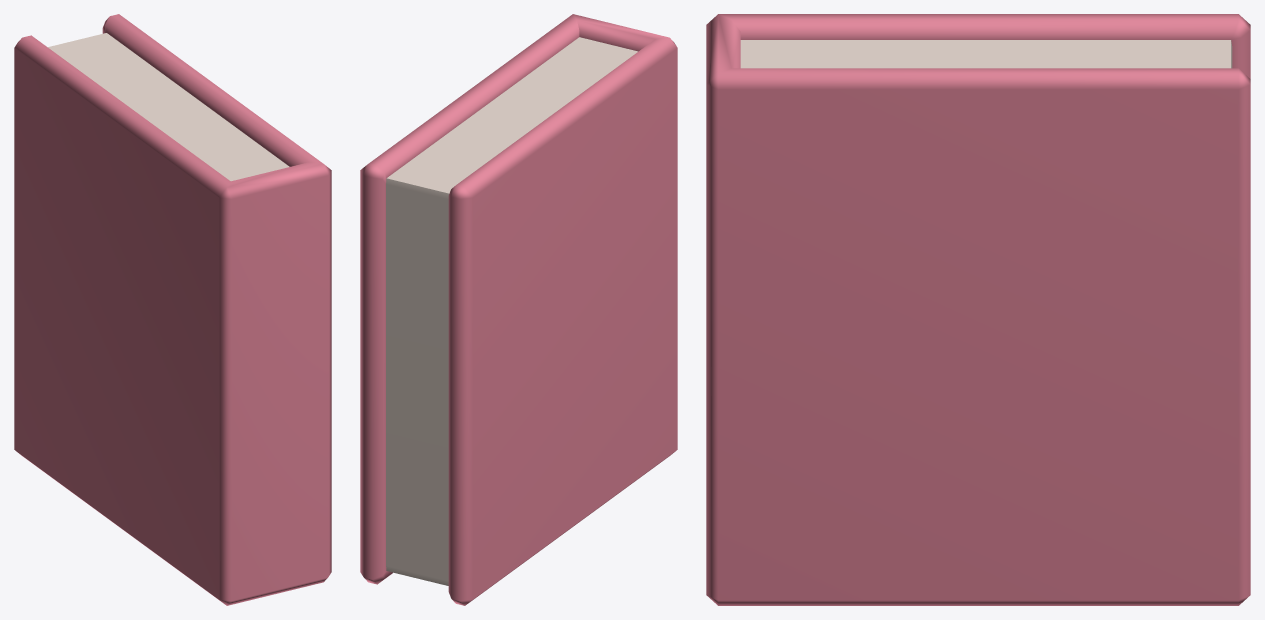
Rendered from Book_3.glb.
3 views of the same model, side by side, from view 1: azimuth 30°, elevation 25°; view 2: azimuth 150°, elevation 25°; view 3: azimuth 270°, elevation 25° (orthographic). The views are drawn at different scales.
Parts seen in each view (by area): view 1: Book_3; view 2: Book_3; view 3: Book_3.
Part boxes in pixels (<box>): Book_3: <box>14,14,331,605</box>; Book_3: <box>360,14,677,605</box>; Book_3: <box>706,14,1250,605</box>.
Size of the model in its own units: 0.0838 by 0.2973 by 0.2755.
Materials: 1 (1 with a texture image).
